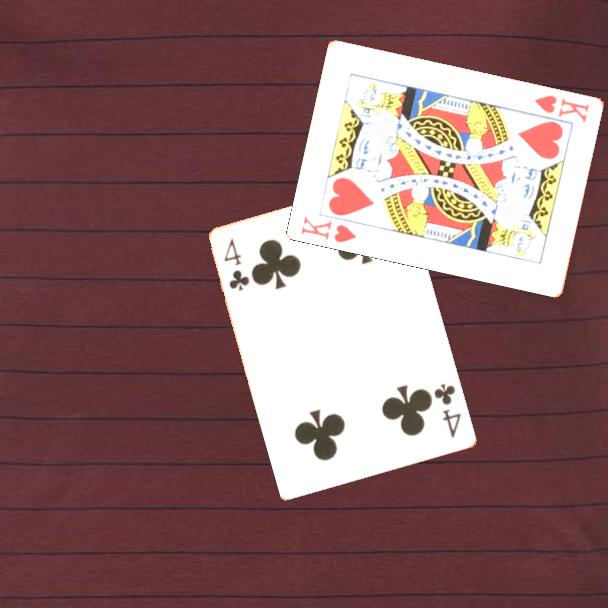c04: (431, 380, 464, 441), (221, 235, 252, 294)
h13: (531, 91, 592, 125), (298, 212, 360, 245)
